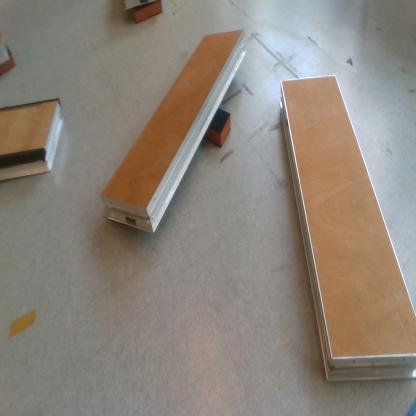Stairs: (280, 74, 416, 383), (102, 28, 250, 236), (2, 100, 66, 183)
